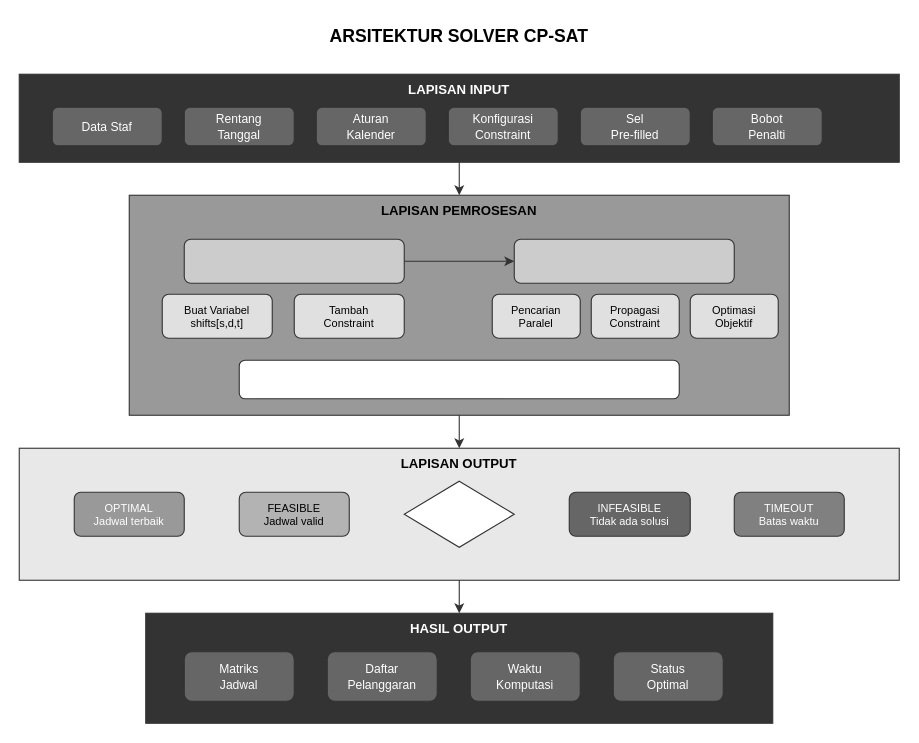
Image size: 919x743. Some labels were removed from this diagram. Each missing label, with the centre of its shape:
Fungsi Objektif: Minimasi Σ(bobot × pelanggaran): pixel 458 379
Inti Solver CP-SAT: pixel 623 260
Pembangun Model: pixel 293 260
Status?: pixel 458 513
